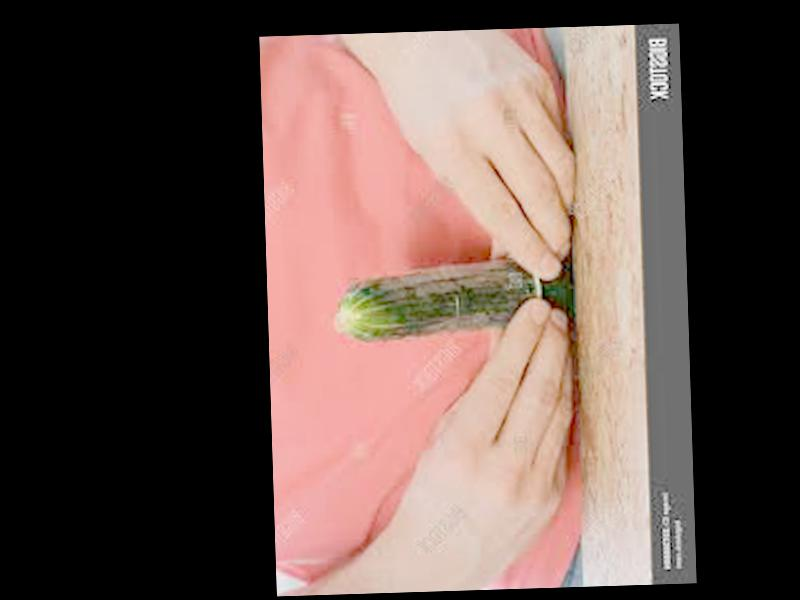Cucumber: (335, 258, 573, 344)
